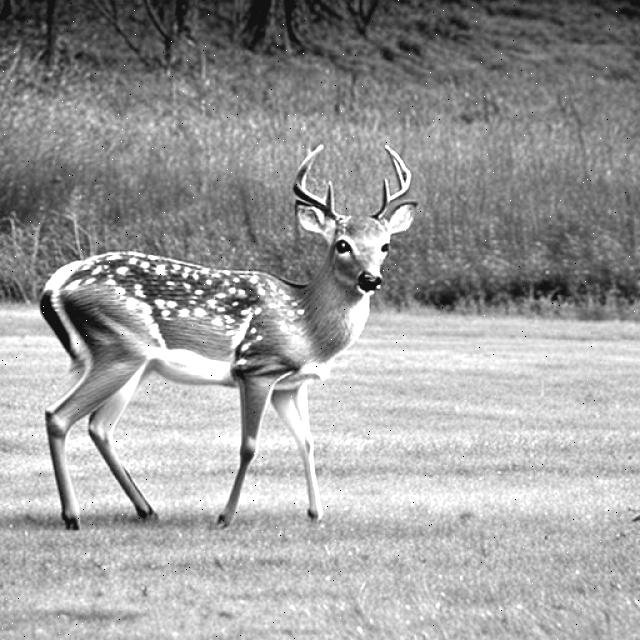deer: (15, 140, 442, 561)
